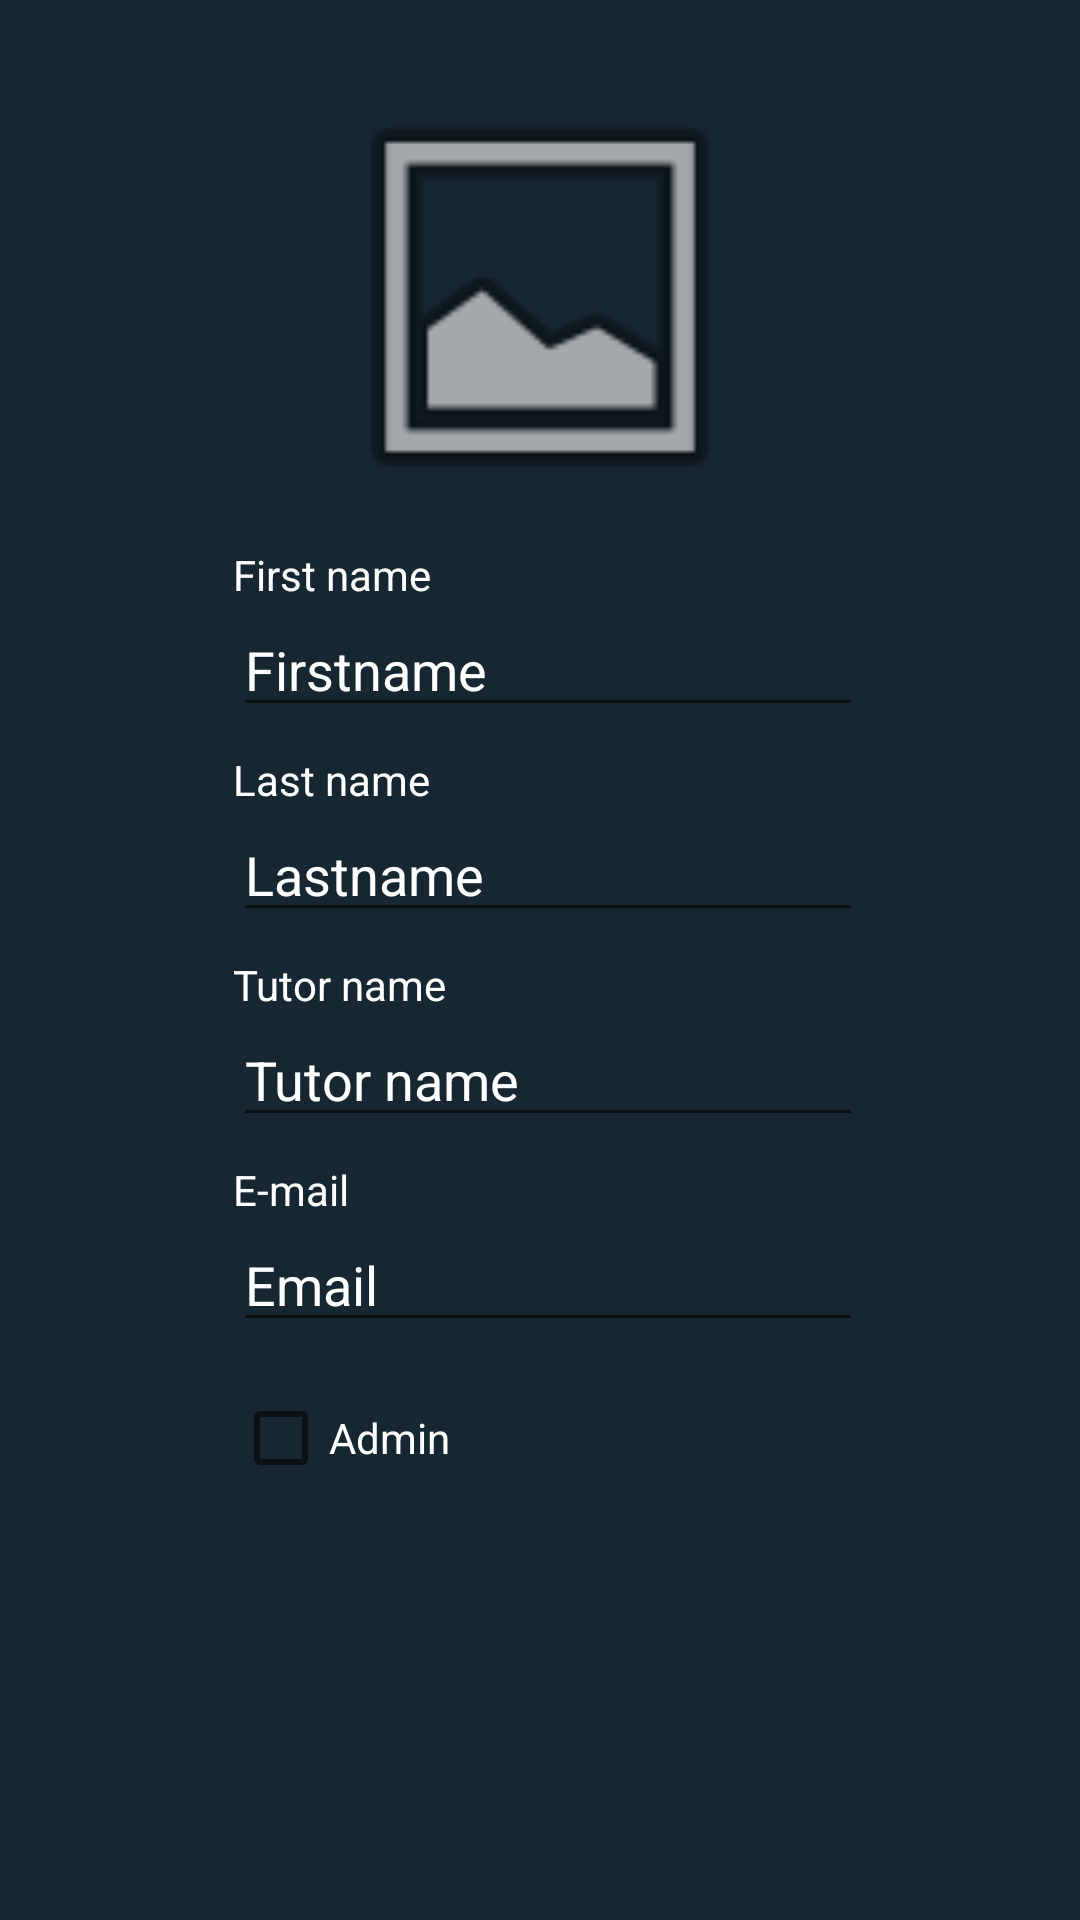

Where icons sit on this 1080×1920 app screen, as [x1,y1,x2,y2]:
gallery: [381,137,699,457]
